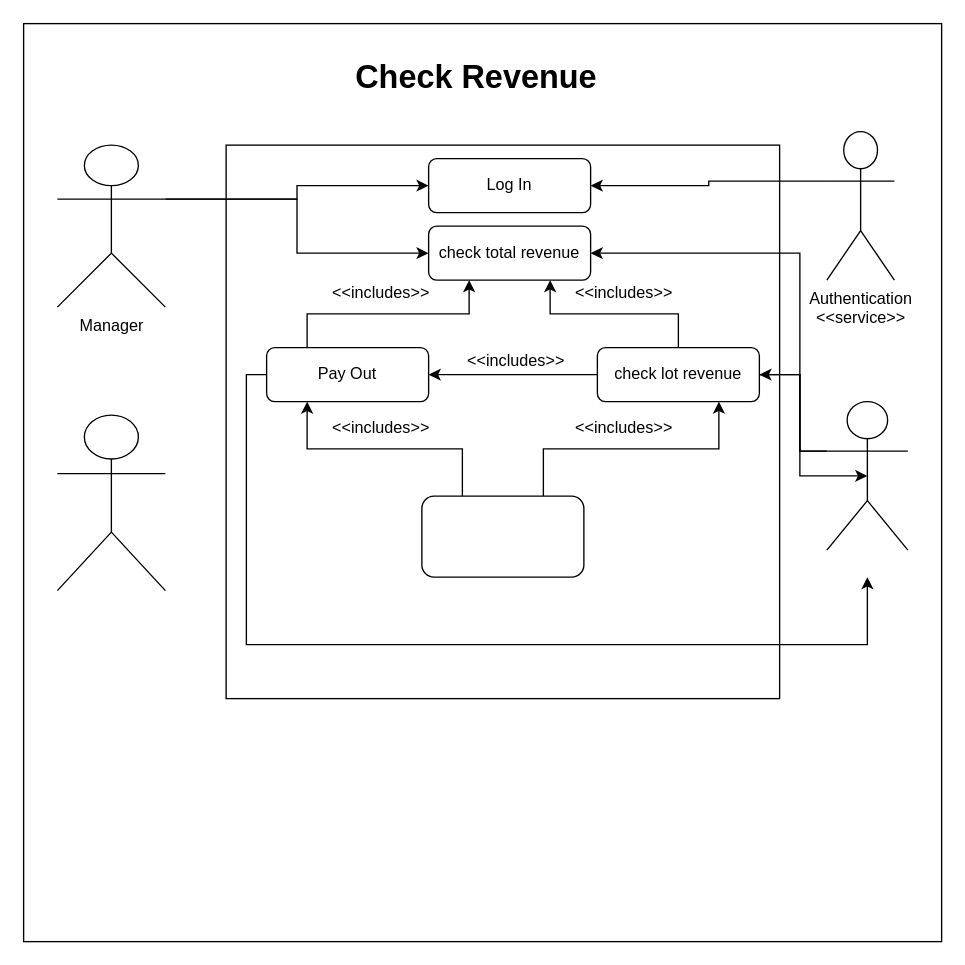
Image size: 965x965. Some labels were removed from this diagram. The centre of each missing label's shape, as x and y in pixels:
"Database" belongs at (867,475).
"Owner" belongs at (110,502).
"split percentages 25% managers 75% owners" belongs at (502,536).
